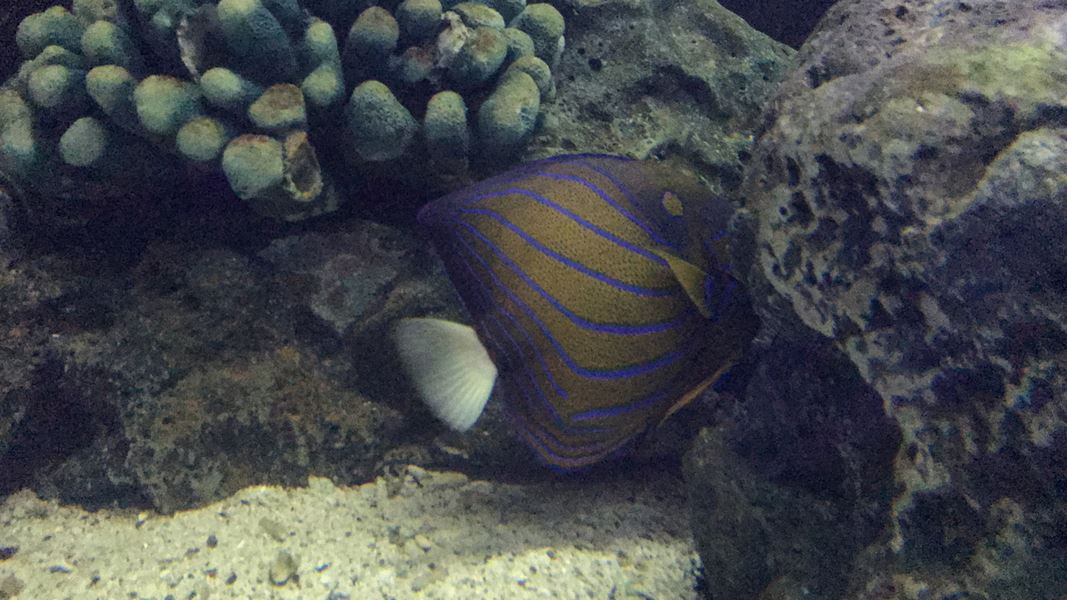Blue ring angelfish: (369, 133, 763, 499)
